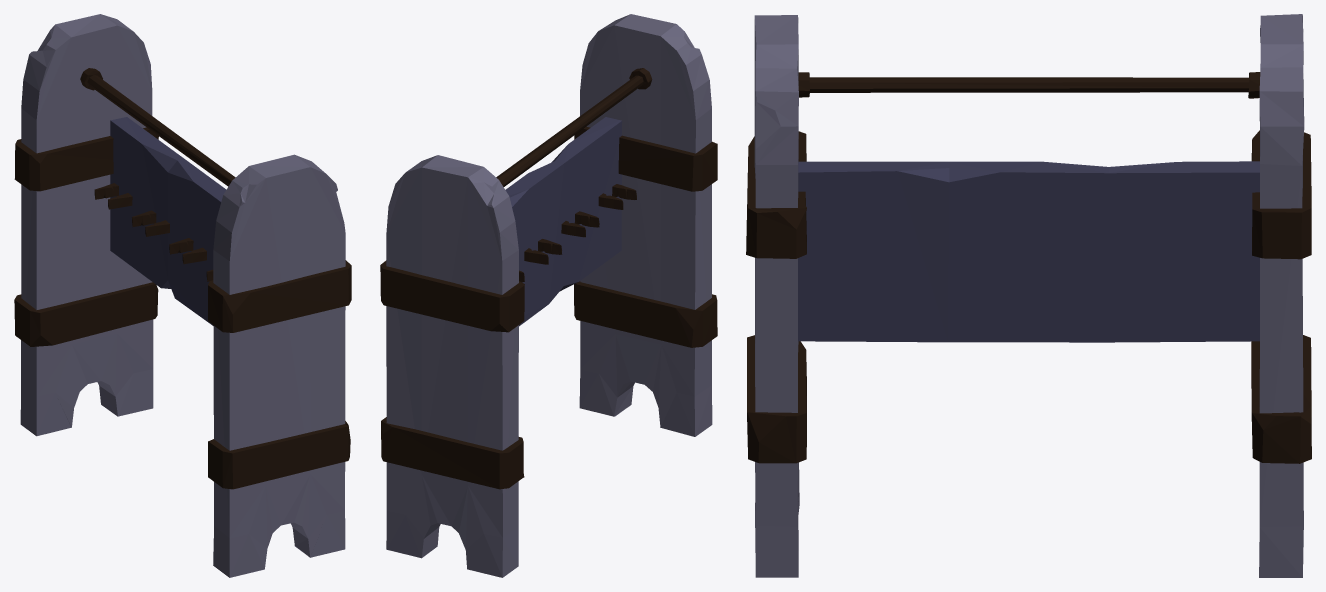
The model's file is SFFA_Tool_Stand_001.fbx.
3 views of the same model, side by side, from view 1: azimuth 30°, elevation 25°; view 2: azimuth 150°, elevation 25°; view 3: azimuth 270°, elevation 25° (orthographic). The views are drawn at different scales.
Parts seen in each view (by area): view 1: SFFA_Tool_Stand_001; view 2: SFFA_Tool_Stand_001; view 3: SFFA_Tool_Stand_001.
Boxes of the visible parts, x1,y1,x2,y2 form: SFFA_Tool_Stand_001: (14,14,351,577); SFFA_Tool_Stand_001: (380,14,717,577); SFFA_Tool_Stand_001: (746,14,1311,577).
Size of the model in its own units: 30.96 by 89.51 by 89.61.
